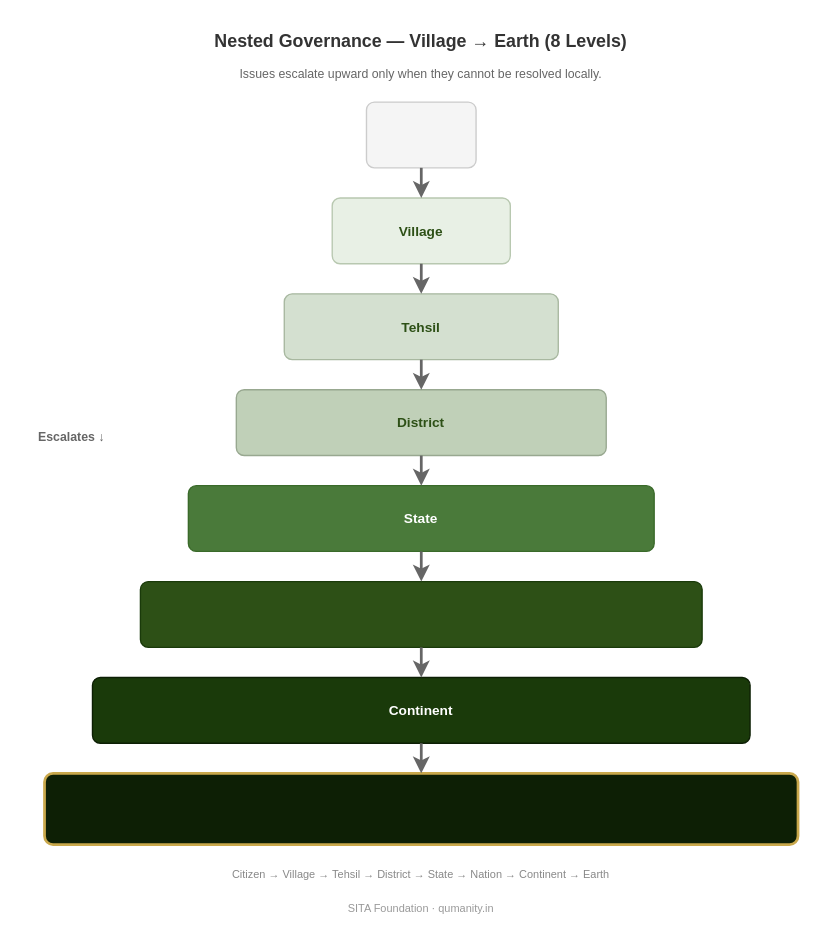
This 822x944 diagram has some shape labels left out. The box of each missing label's shape, as (x1, y1, x2, y2) in pixels:
Citizen: (365, 101, 476, 168)
Earth: (42, 771, 799, 845)
Nation: (139, 580, 702, 647)
